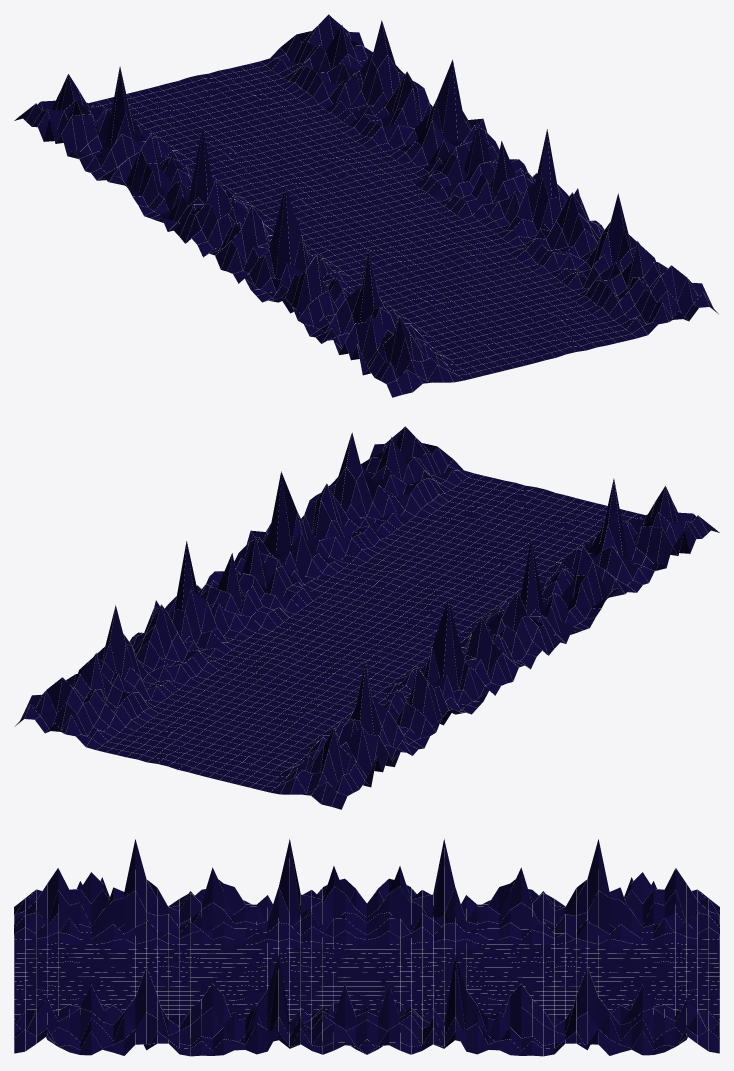
File: Synthwave.fbx
3 views of the same model, one above another, from view 1: azimuth 30°, elevation 25°; view 2: azimuth 150°, elevation 25°; view 3: azimuth 270°, elevation 25° (orthographic). The views are drawn at different scales.
Visible parts, largest first — view 1: Floor, Wireframe; view 2: Floor, Wireframe; view 3: Floor, Wireframe.
Boxes of the visible parts, left/top/right/bottom form: Floor: left=14, top=14, right=718, bottom=397; Wireframe: left=14, top=14, right=719, bottom=397; Floor: left=15, top=426, right=719, bottom=809; Wireframe: left=14, top=426, right=719, bottom=809; Floor: left=14, top=839, right=719, bottom=1056; Wireframe: left=14, top=844, right=719, bottom=1056.
Bounding box in the file's own units: 200 × 54.77 × 400.
